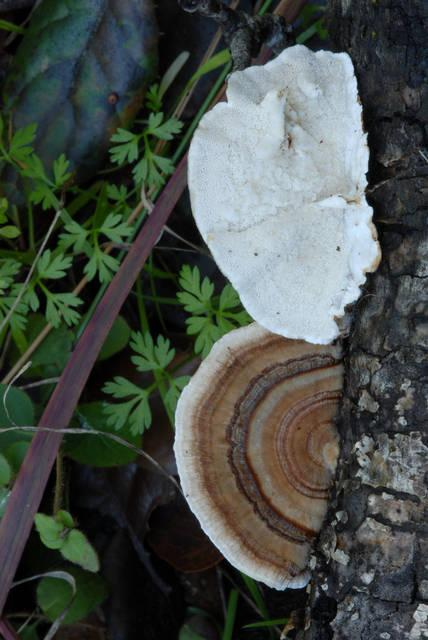poisonous_mushroom: (185, 42, 383, 345), (171, 319, 347, 591)
